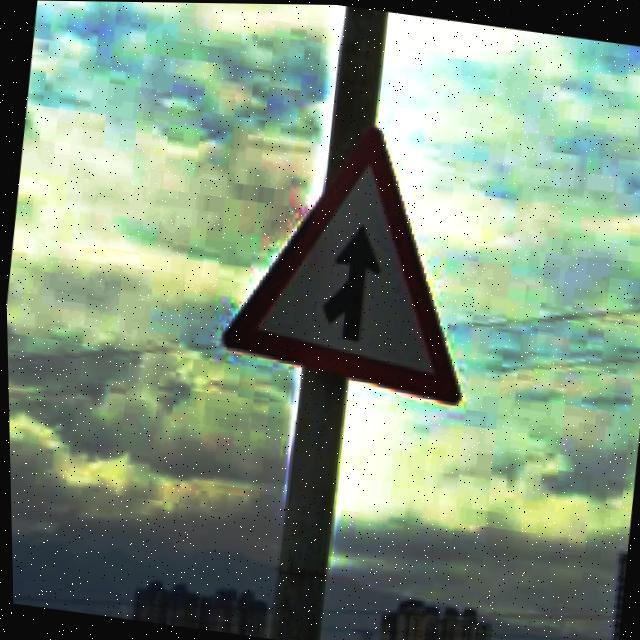leftmerge: (219, 125, 458, 406)
